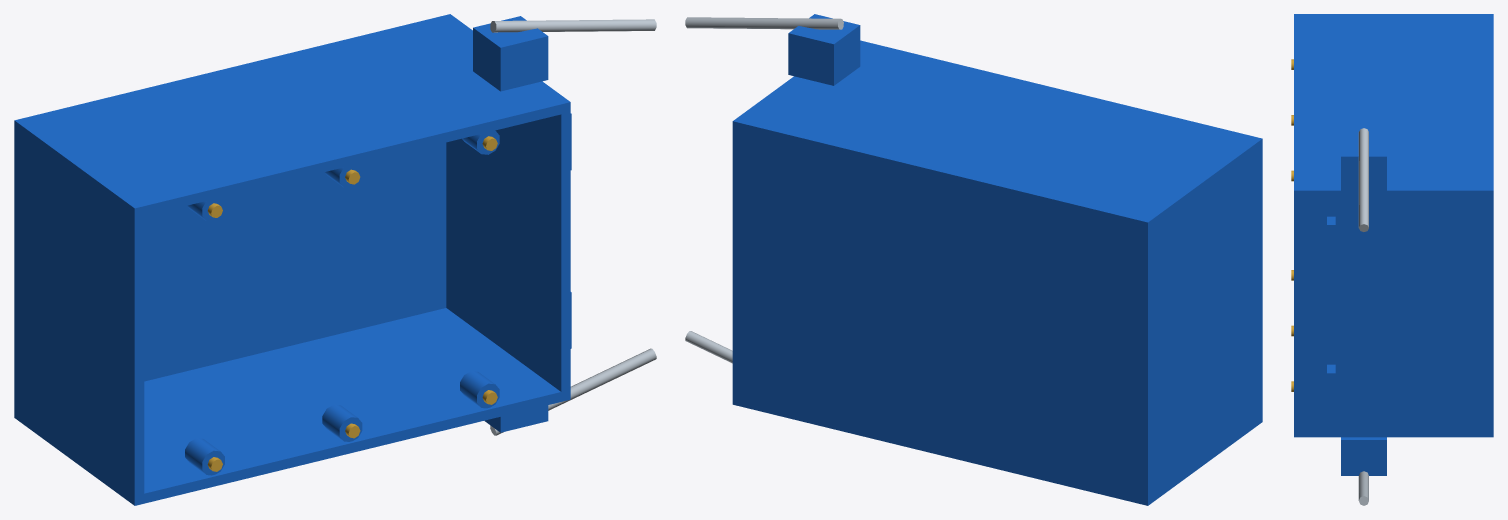
The picture shows the model from 3 angles, left to right: view 1: azimuth 30°, elevation 25°; view 2: azimuth 150°, elevation 25°; view 3: azimuth 270°, elevation 25°; orthographic projection. The views are drawn at different scales.
Visible parts, largest first — view 1: cad-box-three-gang-standard; view 2: cad-box-three-gang-standard; view 3: cad-box-three-gang-standard.
Boxes of the visible parts, x1,y1,x2,y2 form: cad-box-three-gang-standard: (14, 14, 656, 505); cad-box-three-gang-standard: (685, 14, 1262, 505); cad-box-three-gang-standard: (1291, 14, 1493, 505).
Size of the model in its own units: 0.1883 by 0.1328 by 0.0709.
